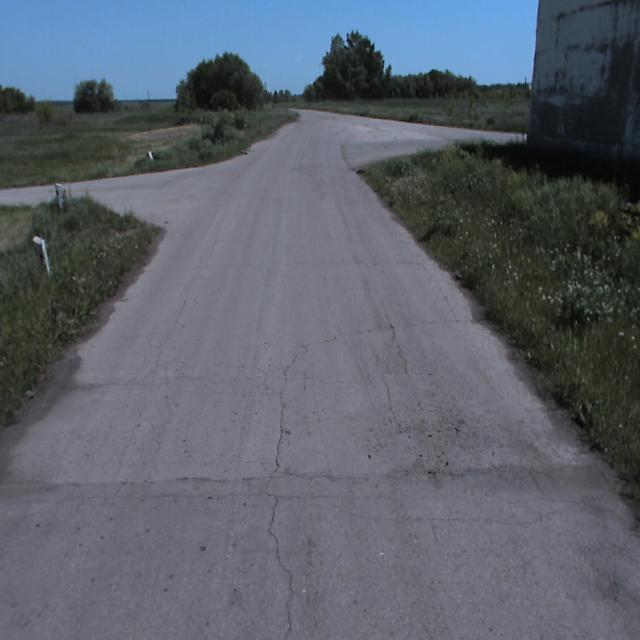road: (0, 109, 639, 639), (0, 185, 55, 204)
